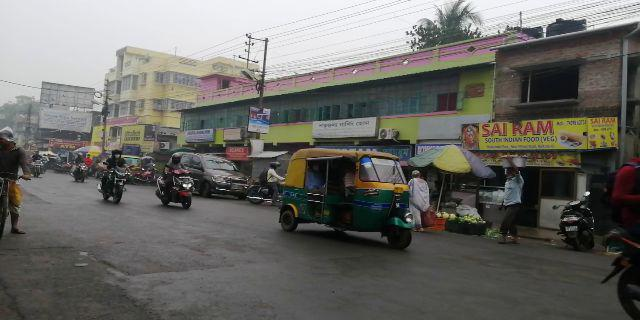Autorickshaw: (280, 148, 415, 242)
Car: (176, 148, 252, 200)
Motorbike: (152, 155, 198, 209), (97, 151, 129, 204)
